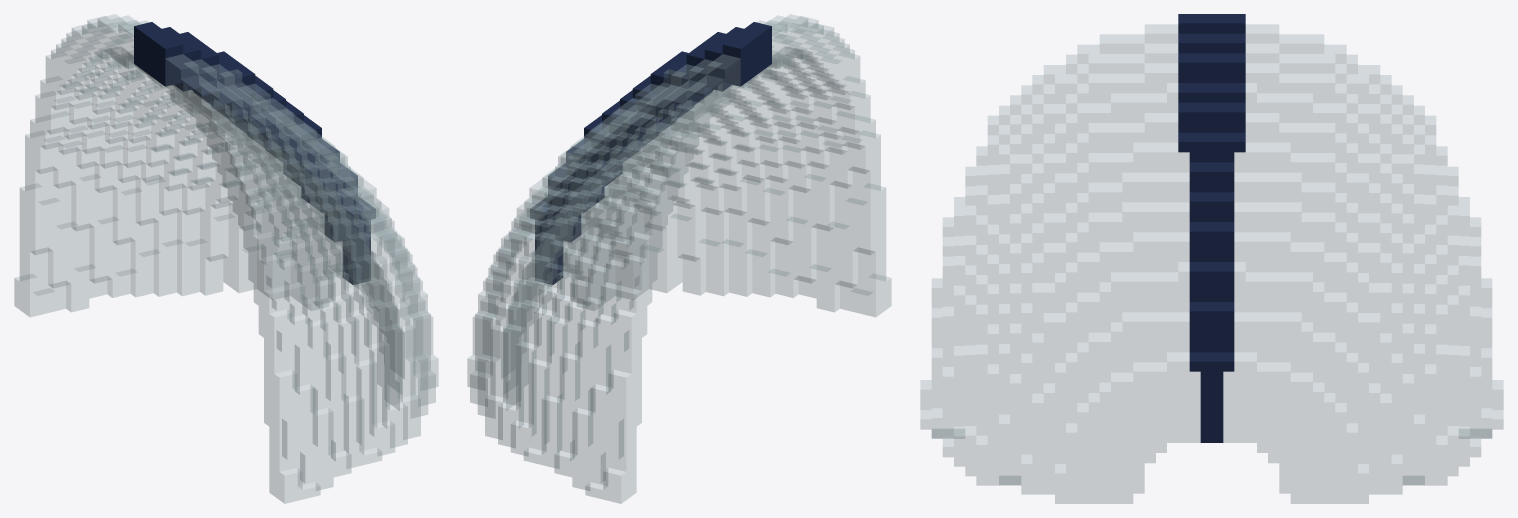
Rendered from police_helicopter_windscreen.glb.
3 renders of one model, left to right at view 1: azimuth 30°, elevation 25°; view 2: azimuth 150°, elevation 25°; view 3: azimuth 270°, elevation 25°, orthographic. The views are drawn at different scales.
Parts seen in each view (by area): view 1: body:compound; view 2: body:compound; view 3: body:compound.
Part boxes in pixels (<box>): body:compound: <box>14,14,438,503</box>; body:compound: <box>467,14,891,503</box>; body:compound: <box>920,14,1503,503</box>.
Size of the model in its own units: 0.75 by 1.22 by 1.62.
